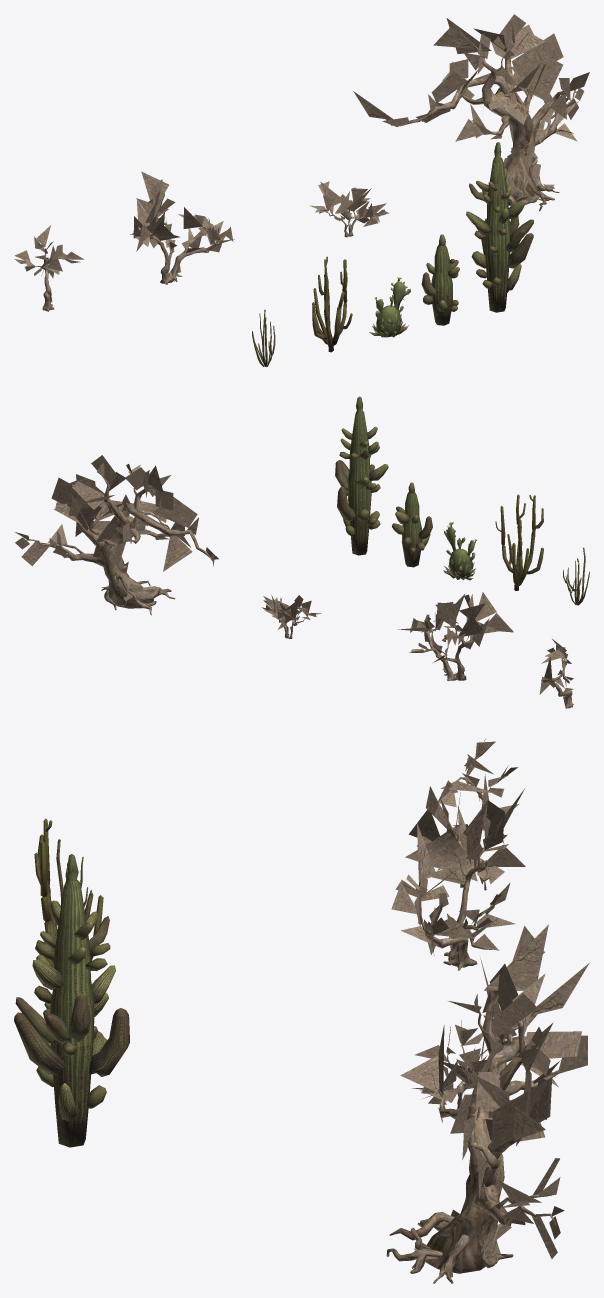
File: xiantree.FBX
The picture shows the model from 3 angles, top to bottom: view 1: azimuth 30°, elevation 25°; view 2: azimuth 150°, elevation 25°; view 3: azimuth 270°, elevation 25°; orthographic projection. The views are drawn at different scales.
Visible parts, largest first — view 1: yewai_tree07, yewai_tree01, yewai_tree06, yewai_tree11, yewai_tree02, yewai_tree04, yewai_tree09, yewai_tree03, yewai_tree13, yewai_tree10, yewai_tree05; view 2: yewai_tree07, yewai_tree06, yewai_tree01, yewai_tree11, yewai_tree02, yewai_tree04, yewai_tree03, yewai_tree09, yewai_tree10, yewai_tree13, yewai_tree05; view 3: yewai_tree07, yewai_tree01, yewai_tree06, yewai_tree11, yewai_tree09, yewai_tree04, yewai_tree10, yewai_tree13.
Boxes of the visible parts, bbox=[...] form: yewai_tree07: bbox=[353, 14, 589, 201]; yewai_tree01: bbox=[466, 142, 533, 312]; yewai_tree06: bbox=[398, 39, 582, 211]; yewai_tree11: bbox=[130, 171, 234, 284]; yewai_tree02: bbox=[421, 234, 459, 325]; yewai_tree04: bbox=[312, 256, 352, 352]; yewai_tree09: bbox=[309, 181, 388, 235]; yewai_tree03: bbox=[369, 277, 410, 337]; yewai_tree13: bbox=[14, 225, 83, 310]; yewai_tree10: bbox=[149, 211, 225, 284]; yewai_tree05: bbox=[252, 309, 275, 367]; yewai_tree07: bbox=[15, 455, 218, 604]; yewai_tree06: bbox=[18, 477, 211, 615]; yewai_tree01: bbox=[335, 396, 388, 555]; yewai_tree11: bbox=[397, 592, 513, 681]; yewai_tree02: bbox=[392, 482, 432, 567]; yewai_tree04: bbox=[495, 494, 543, 590]; yewai_tree03: bbox=[443, 522, 476, 580]; yewai_tree09: bbox=[261, 595, 321, 635]; yewai_tree10: bbox=[411, 619, 472, 680]; yewai_tree13: bbox=[539, 639, 573, 705]; yewai_tree05: bbox=[563, 547, 589, 605]; yewai_tree07: bbox=[400, 924, 589, 1277]; yewai_tree01: bbox=[14, 854, 129, 1147]; yewai_tree06: bbox=[386, 975, 562, 1283]; yewai_tree11: bbox=[391, 786, 525, 963]; yewai_tree09: bbox=[411, 1020, 516, 1108]; yewai_tree04: bbox=[34, 818, 103, 967]; yewai_tree10: bbox=[419, 821, 492, 970]; yewai_tree13: bbox=[438, 739, 519, 844].
Size of the model in its own units: 3284 by 916 by 1626.
